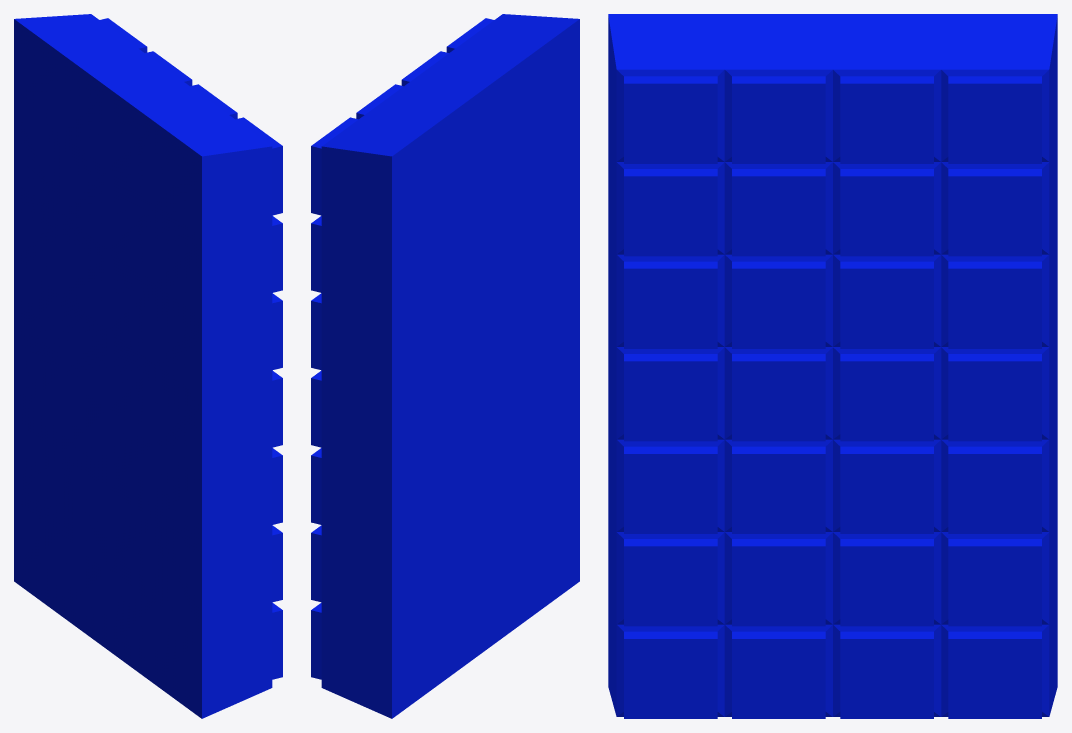
The model's file is Tableta_Chocolate.fbx.
3 renders of one model, left to right at view 1: azimuth 30°, elevation 25°; view 2: azimuth 150°, elevation 25°; view 3: azimuth 270°, elevation 25°, orthographic. The views are drawn at different scales.
Parts seen in each view (by area): view 1: Box001; view 2: Box001; view 3: Box001.
Part boxes in pixels (x1,y1,x2,y2): Box001: [14, 14, 282, 718]; Box001: [311, 14, 579, 718]; Box001: [608, 14, 1057, 718].
Bounding box in the file's own units: 907 × 5572 × 3374.
